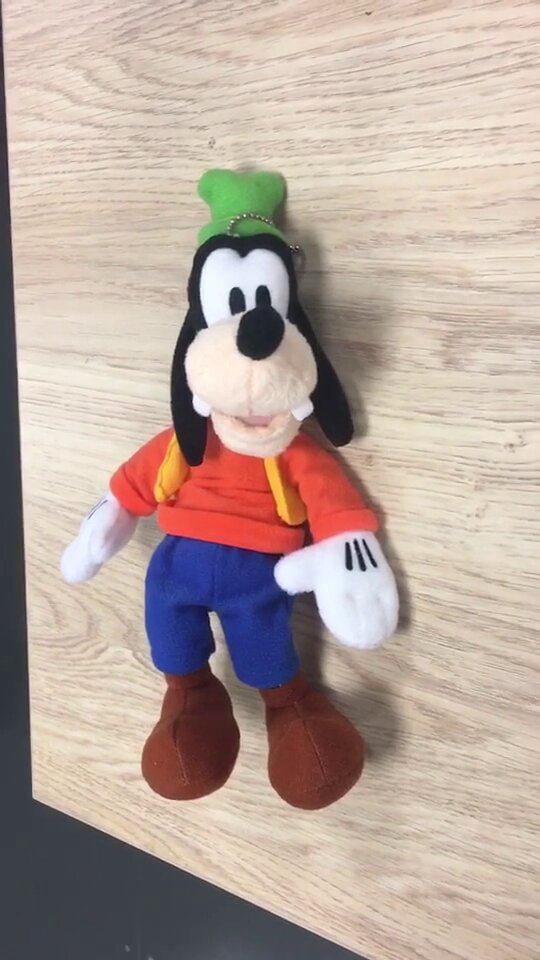goofy: (56, 164, 405, 812)
